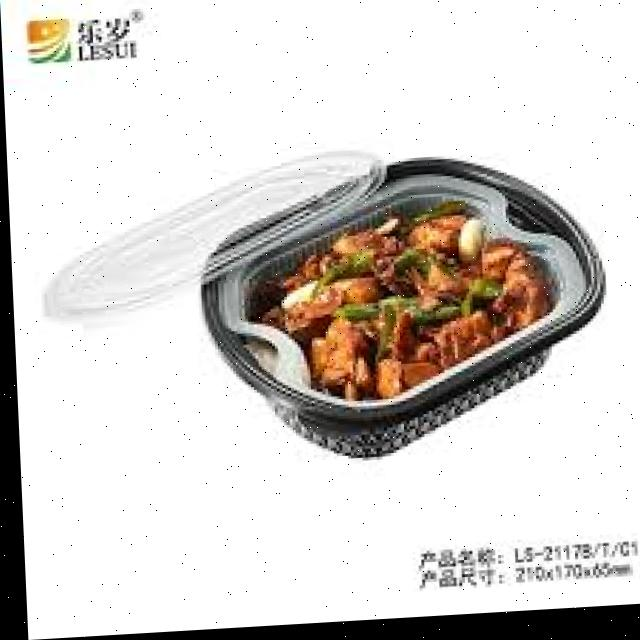disposable: (165, 103, 624, 482)
